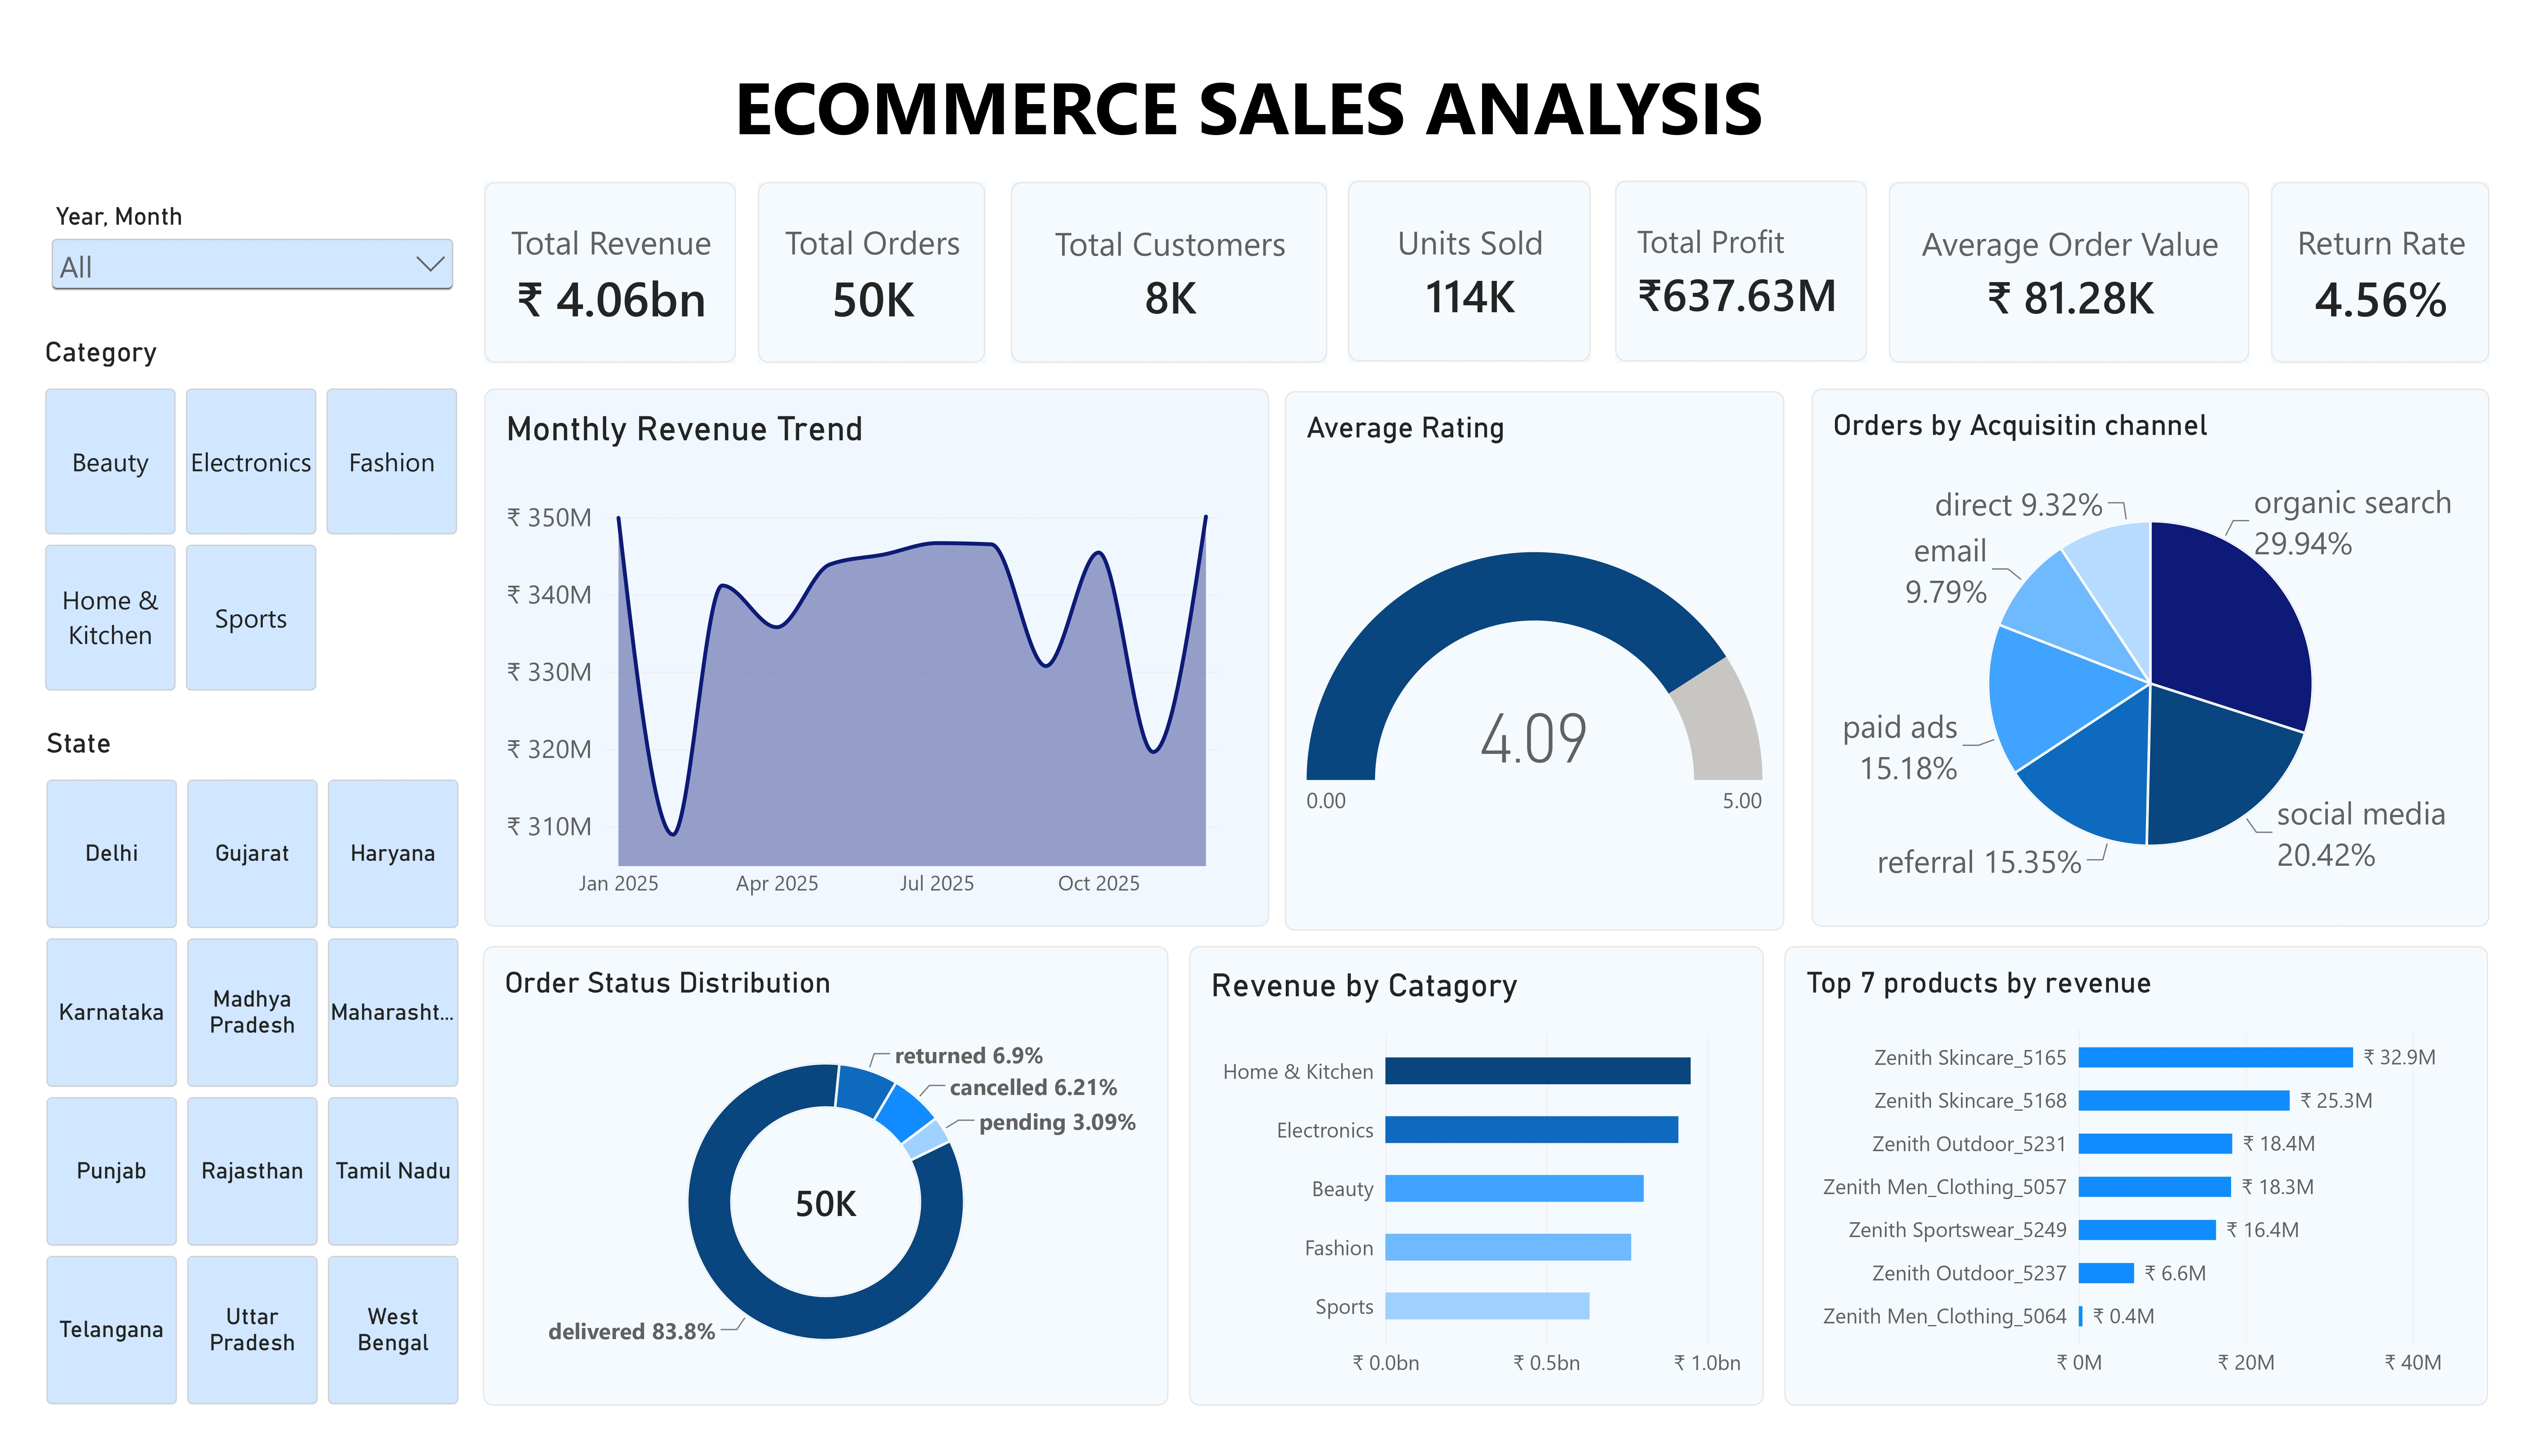

Layout of this report page (visuals, bound fields, positions):
{"tool":"powerbi","page":{"name":"Executive Overview","canvas":[1920,1080],"ordinal":0},"visuals":[{"type":"cardVisual","fields":{"Data":["_Measures.Total Orders"]},"box":[563.1,116.9,176.6,140.8],"z":0},{"type":"cardVisual","fields":{"Data":["_Measures.Total Customers"]},"box":[758.7,116.9,245.7,140.8],"z":1000},{"type":"cardVisual","fields":{"Data":["_Measures.Units Sold"]},"box":[1019.8,115.8,188.5,140.8],"z":2000},{"type":"cardVisual","fields":{"Data":["_Measures.Return Rate"]},"box":[1734.6,116.9,169.4,140.8],"z":3000},{"type":"cardVisual","fields":{"Data":["_Measures.Average Order Value"]},"box":[1438.7,116.9,279.2,140.8],"z":4000},{"type":"cardVisual","fields":{"Data":["_Measures.Total Revenue"]},"box":[350.7,116.9,195.6,140.8],"z":5000},{"type":"lineChart","title":"Monthly Revenue Trend","fields":{"Category":["orders.order_date.Variation.Date Hierarchy.Year","orders.order_date.Variation.Date Hierarchy.Month"],"Y":["_Measures.Total Revenue"]},"box":[350.7,276.8,608.4,417.5],"z":6000},{"type":"clusteredBarChart","title":"Revenue by Catagory","fields":{"Category":["products.category"],"Y":["_Measures.Total Revenue"]},"box":[897.2,708.6,445,356.6],"z":7000},{"type":"donutChart","title":"Order Status Distribution","fields":{"Category":["orders.order_status"],"Y":["CountNonNull(orders.order_id)"]},"box":[349.8,708.6,531.5,356.6],"z":8000},{"type":"clusteredBarChart","title":"Top 7 products by revenue","fields":{"Category":["products.product_name"],"Y":["_Measures.Total Revenue"]},"box":[1358.2,708.6,545.1,356.6],"z":9000},{"type":"textbox","box":[506.5,20.4,872.2,77.2],"z":10000},{"type":"advancedSlicerVisual","title":"Category","fields":{"Values":["products.category"]},"box":[11.4,236.2,320.3,281.6],"z":11000},{"type":"slicer","fields":{"Values":["orders.order_date.Variation.Date Hierarchy.Year","orders.order_date.Variation.Date Hierarchy.Month"]},"box":[11.4,131.7,320.3,104.5],"z":12000},{"type":"advancedSlicerVisual","title":"State","fields":{"Values":["customers.state"]},"box":[11.9,539.2,320.3,524.7],"z":13000},{"type":"pieChart","title":"Orders by Acquisitin channel","fields":{"Category":["customers.acquisition_channel"],"Y":["_Measures.Total Orders"]},"box":[1379.1,276.8,524.9,417.5],"z":14000},{"type":"cardVisual","fields":{"Data":["_Measures.Total Profit"]},"box":[1226.5,115.8,195.3,140.8],"z":15000},{"type":"gauge","title":"Average Rating","fields":{"MaxValue":["Max(products.rating)1"],"Y":["Avg(products.rating)"]},"box":[971.1,279.2,386.5,417.5],"z":16000}]}

Visuals, with their boxes on the page's 1920x1080 design canvas (x1, y1, x2, y2). These are canvas units, not pixel positions in the 2541x1456 screenshot, which may show the page scaled, cropped or inside an application window:
cardVisual - _Measures.Total Orders: box=[563, 117, 740, 258]
cardVisual - _Measures.Total Customers: box=[759, 117, 1004, 258]
cardVisual - _Measures.Units Sold: box=[1020, 116, 1208, 257]
cardVisual - _Measures.Return Rate: box=[1735, 117, 1904, 258]
cardVisual - _Measures.Average Order Value: box=[1439, 117, 1718, 258]
cardVisual - _Measures.Total Revenue: box=[351, 117, 546, 258]
"Monthly Revenue Trend" lineChart: box=[351, 277, 959, 694]
"Revenue by Catagory" clusteredBarChart: box=[897, 709, 1342, 1065]
"Order Status Distribution" donutChart: box=[350, 709, 881, 1065]
"Top 7 products by revenue" clusteredBarChart: box=[1358, 709, 1903, 1065]
textbox: box=[506, 20, 1379, 98]
"Category" advancedSlicerVisual: box=[11, 236, 332, 518]
slicer - orders.order_date.Variation.Date Hierarchy.Year x orders.order_date.Variation.Date Hierarchy.Month: box=[11, 132, 332, 236]
"State" advancedSlicerVisual: box=[12, 539, 332, 1064]
"Orders by Acquisitin channel" pieChart: box=[1379, 277, 1904, 694]
cardVisual - _Measures.Total Profit: box=[1226, 116, 1422, 257]
"Average Rating" gauge: box=[971, 279, 1358, 697]
